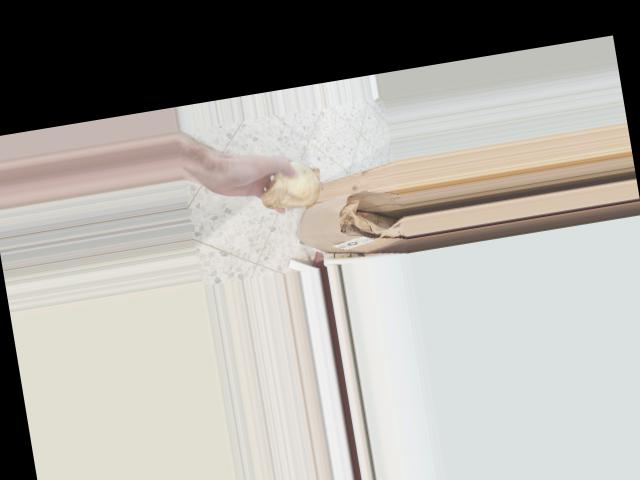onion: (251, 156, 328, 217)
